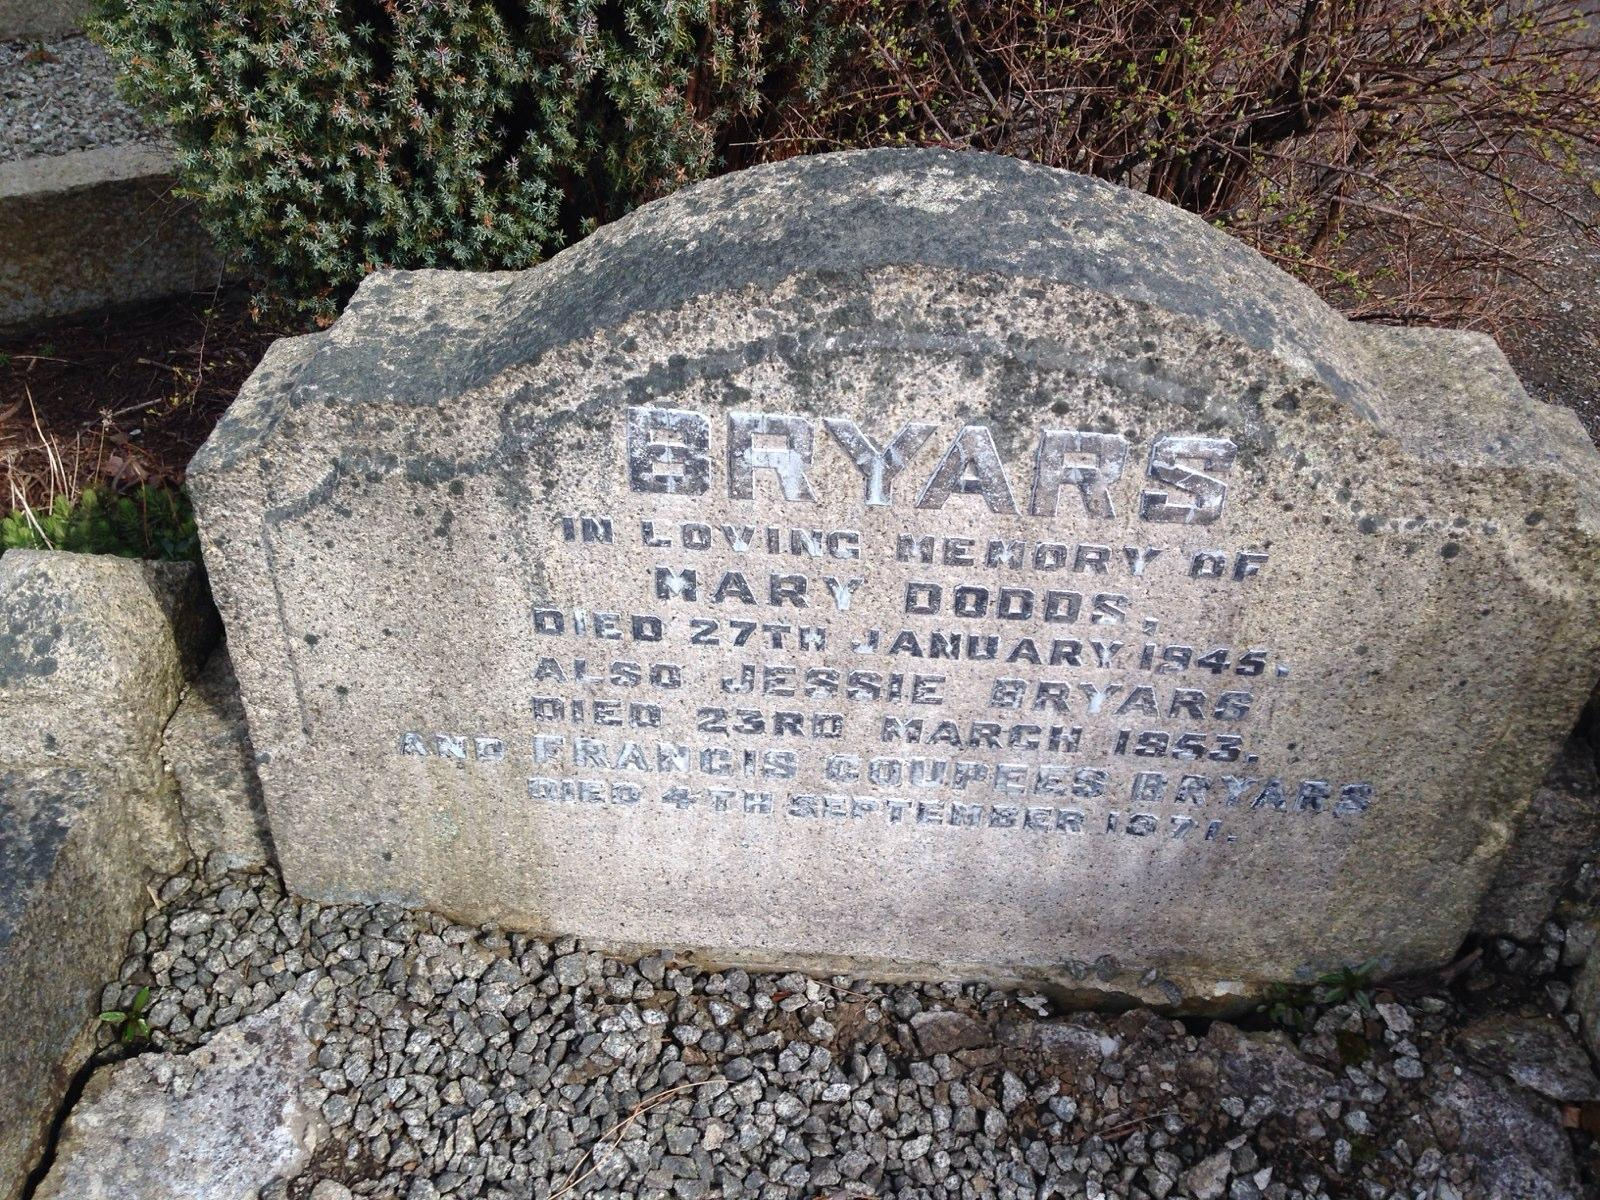upright: (164, 161, 1580, 1032)
